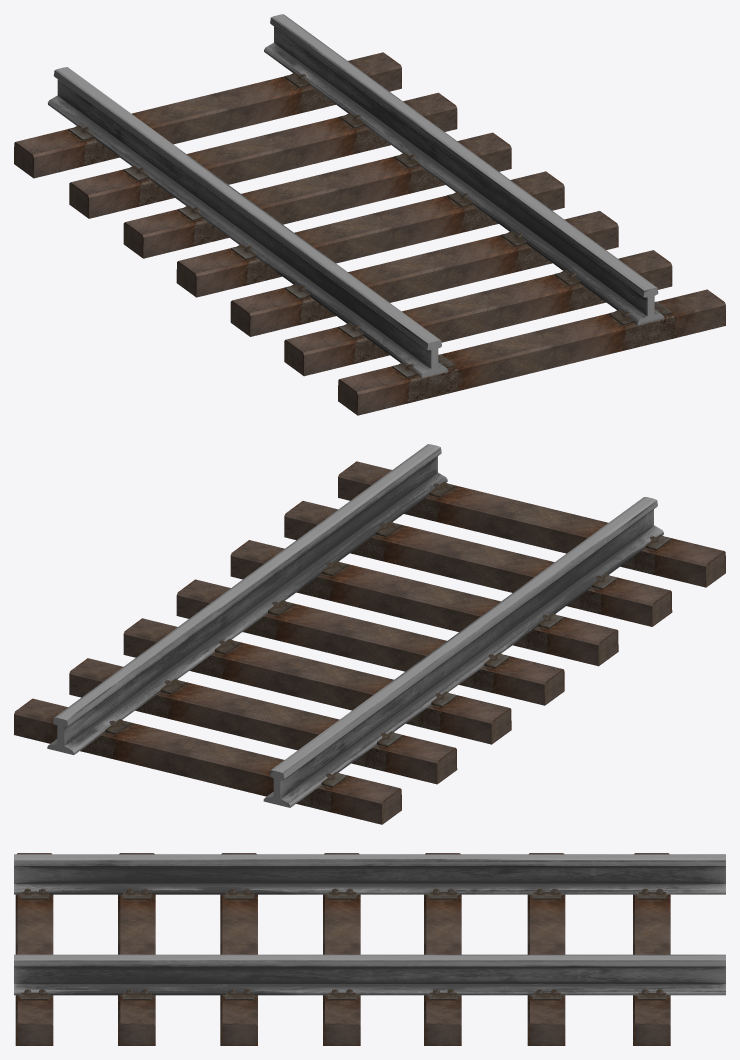
File: tracks1.obj
3 views of the same model, one above another, from view 1: azimuth 30°, elevation 25°; view 2: azimuth 150°, elevation 25°; view 3: azimuth 270°, elevation 25° (orthographic). The views are drawn at different scales.
Visible parts, largest first — view 1: Cube.007_Material_0; view 2: Cube.007_Material_0; view 3: Cube.007_Material_0.
Part boxes in pixels (x1,y1,x2,y2): Cube.007_Material_0: (14, 14, 725, 415); Cube.007_Material_0: (14, 444, 725, 824); Cube.007_Material_0: (14, 853, 725, 1045).
Size of the model in its own units: 0.7728 by 0.1126 by 1.36.
